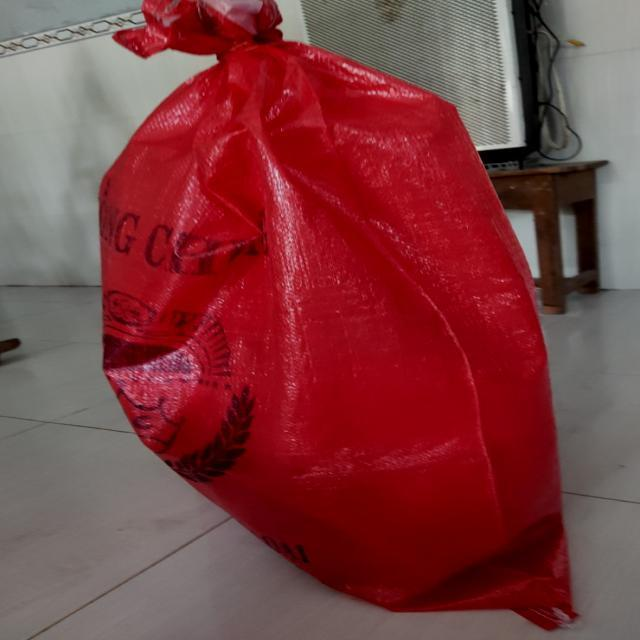gunny_bag: (99, 0, 576, 630)
